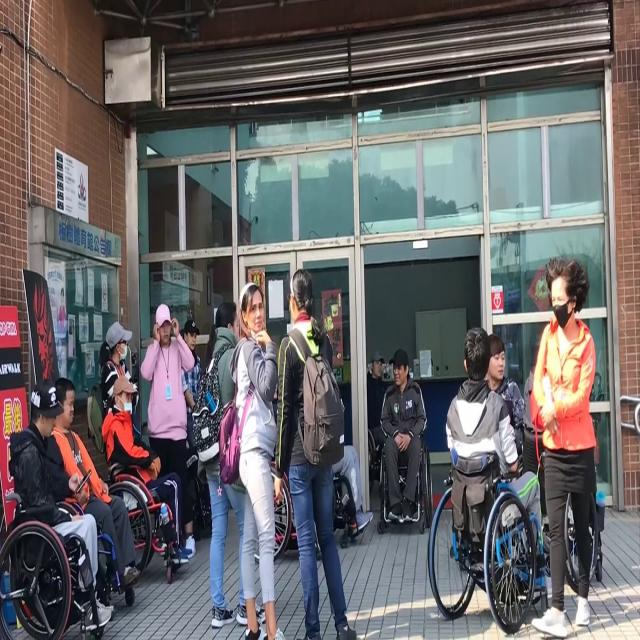wheelchairs: (423, 471, 544, 629), (0, 466, 102, 639), (243, 414, 364, 555), (97, 450, 191, 592), (372, 398, 437, 540)
